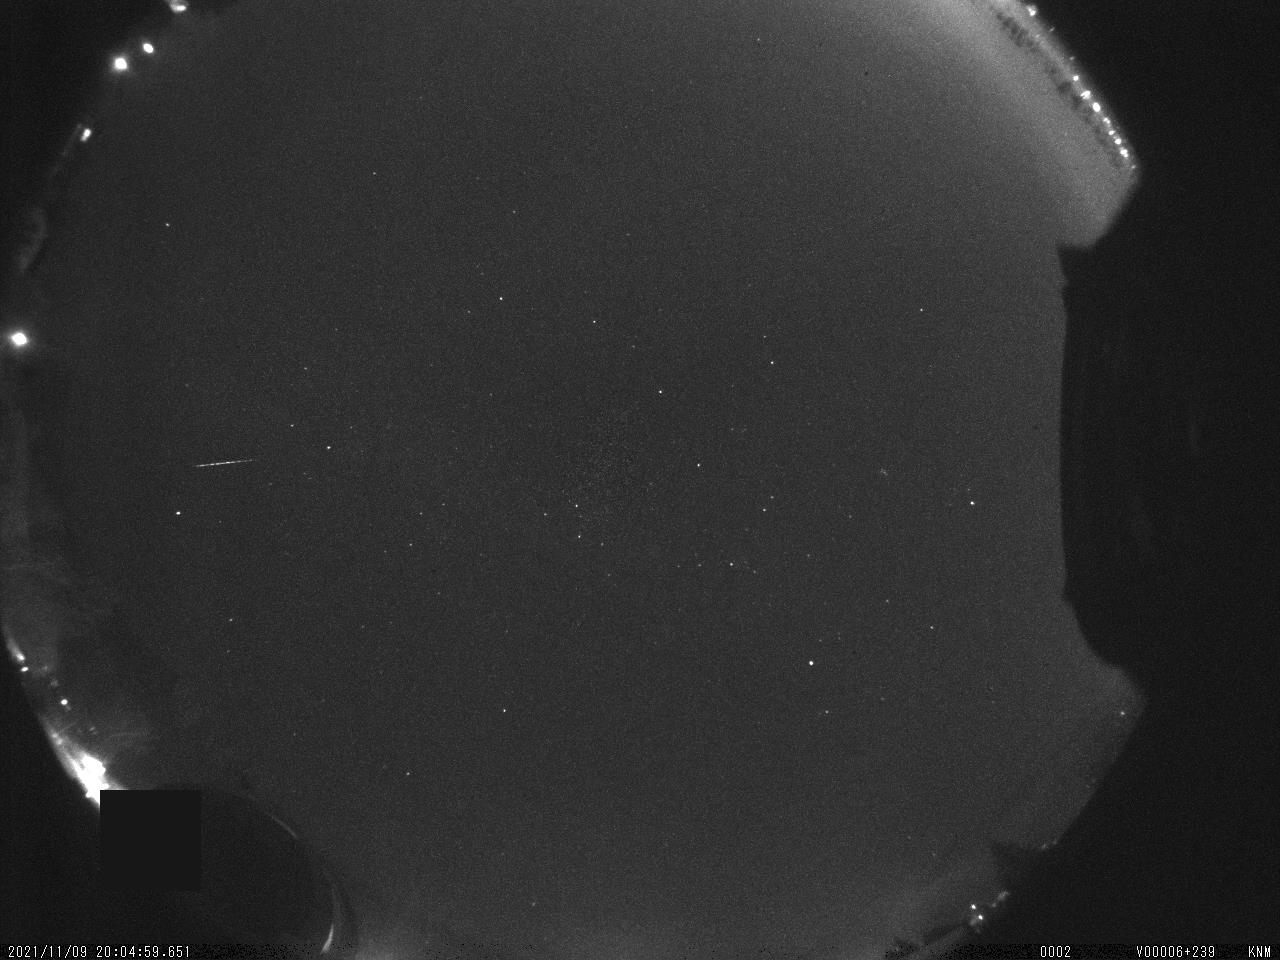meteor: (193, 450, 262, 479)
